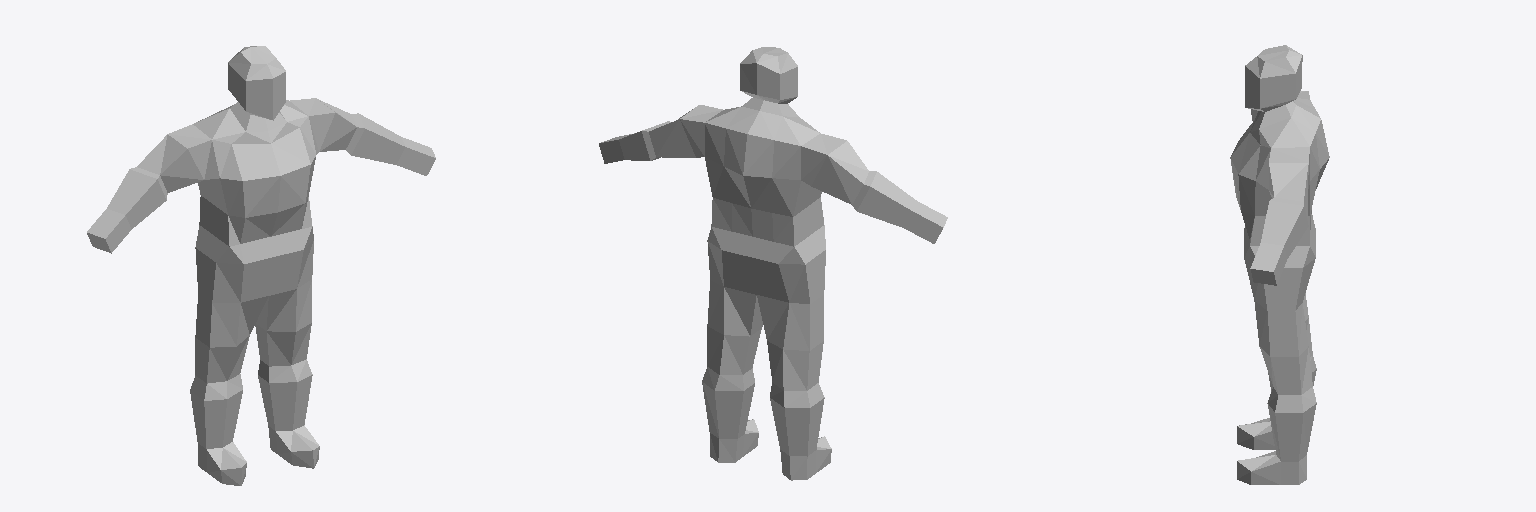
The model's file is player.obj.
3 views of the same model, side by side, from view 1: azimuth 30°, elevation 25°; view 2: azimuth 150°, elevation 25°; view 3: azimuth 270°, elevation 25° (orthographic).
Visible parts, largest first — view 1: Cube_Cube.001; view 2: Cube_Cube.001; view 3: Cube_Cube.001.
Boxes of the visible parts, x1,y1,x2,y2 form: Cube_Cube.001: [87, 46, 435, 485]; Cube_Cube.001: [599, 47, 947, 480]; Cube_Cube.001: [1230, 45, 1329, 484].
Size of the model in its own units: 1.66 by 1.9 by 0.4154.